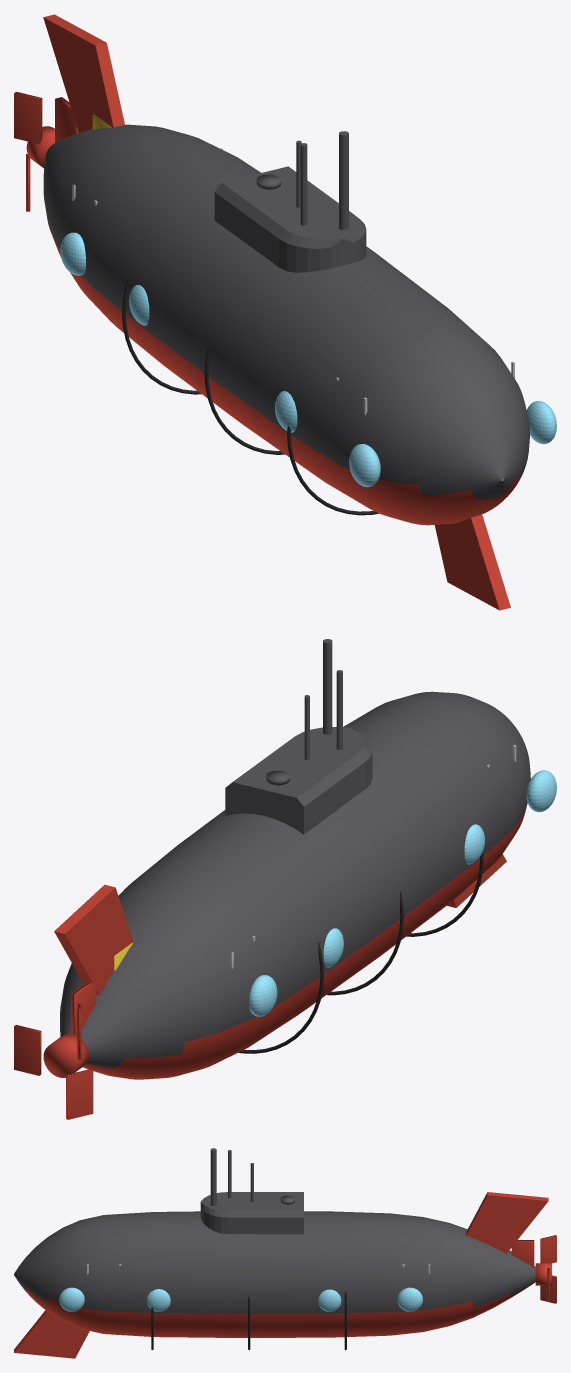
File: Submarine 1.glb
The picture shows the model from 3 angles, top to bottom: view 1: azimuth 30°, elevation 25°; view 2: azimuth 150°, elevation 25°; view 3: azimuth 270°, elevation 25°; orthographic projection. The views are drawn at different scales.
Parts seen in each view (by area): view 1: Main_Hull, Sail, Tail_Wing, Tail_Wing_Bottom, Propeller_Blade_2, Porthole_PORT_1, Porthole_STBD_1, Snorkel_Mast, Porthole_PORT_4, Rudder, Porthole_PORT_2; view 2: Main_Hull, Sail, Tail_Wing, Propeller_Hub, Propeller_Blade_1, Propeller_Blade_3, Porthole_PORT_1, Porthole_PORT_4, Snorkel_Mast, Rudder, Waterline_Trim_2.0, Porthole_PORT_2 (+2 smaller); view 3: Main_Hull, Sail, Tail_Wing, Tail_Wing_Bottom, Porthole_STBD_1, Porthole_STBD_4, Rudder, Propeller_Blade_2, Porthole_STBD_2, Porthole_STBD_3, Snorkel_Mast, Propeller_Hub (+1 smaller).
Part boxes in pixels (x1,y1,x2,y2): Main_Hull: (43, 124, 529, 525); Sail: (214, 166, 366, 272); Tail_Wing: (43, 14, 124, 132); Tail_Wing_Bottom: (434, 514, 510, 610); Propeller_Blade_2: (14, 91, 42, 143); Porthole_PORT_1: (349, 444, 380, 487); Porthole_STBD_1: (526, 401, 556, 444); Snorkel_Mast: (339, 131, 348, 229); Porthole_PORT_4: (60, 232, 85, 275); Rudder: (55, 97, 78, 142); Porthole_PORT_2: (275, 391, 297, 432); Main_Hull: (60, 691, 530, 1079); Sail: (225, 727, 372, 834); Tail_Wing: (54, 884, 132, 995); Propeller_Hub: (43, 1033, 88, 1077); Propeller_Blade_1: (14, 1025, 41, 1075); Propeller_Blade_3: (66, 1069, 93, 1119); Porthole_PORT_1: (526, 770, 556, 812); Porthole_PORT_4: (249, 975, 277, 1016); Snorkel_Mast: (323, 639, 332, 734); Rudder: (71, 981, 96, 1035); Waterline_Trim_2.0: (238, 942, 323, 1053); Porthole_PORT_2: (464, 824, 484, 864); Main_Hull: (14, 1211, 535, 1337); Sail: (200, 1192, 303, 1234); Tail_Wing: (466, 1192, 548, 1253); Tail_Wing_Bottom: (14, 1310, 89, 1358); Porthole_STBD_1: (59, 1287, 84, 1311); Porthole_STBD_4: (397, 1287, 422, 1311); Rudder: (511, 1240, 534, 1267); Propeller_Blade_2: (540, 1235, 556, 1263); Porthole_STBD_2: (147, 1289, 170, 1311); Porthole_STBD_3: (318, 1289, 341, 1311); Snorkel_Mast: (210, 1148, 216, 1206); Propeller_Hub: (535, 1263, 551, 1285).
Size of the model in its own units: 4.18 by 7.2 by 16.86.
